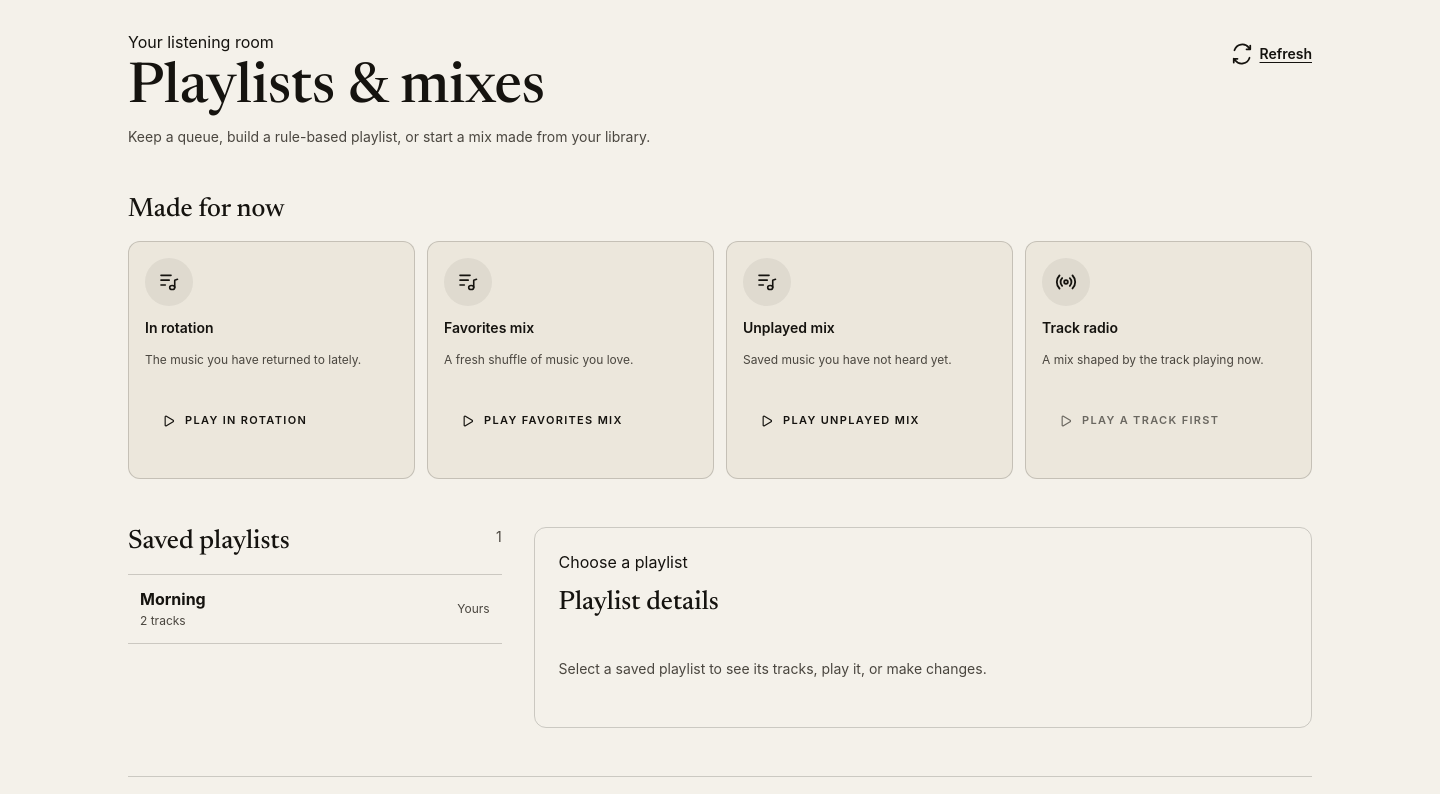
Test case: MusicPlaylists › reorders and removes tracks, then saves the exact optimistic revision
The image size is (1440, 794).
Click the button "Morning 2 tracks Yours". click: x=173, y=599
box: [128,575,502,643]
(page scrolled)
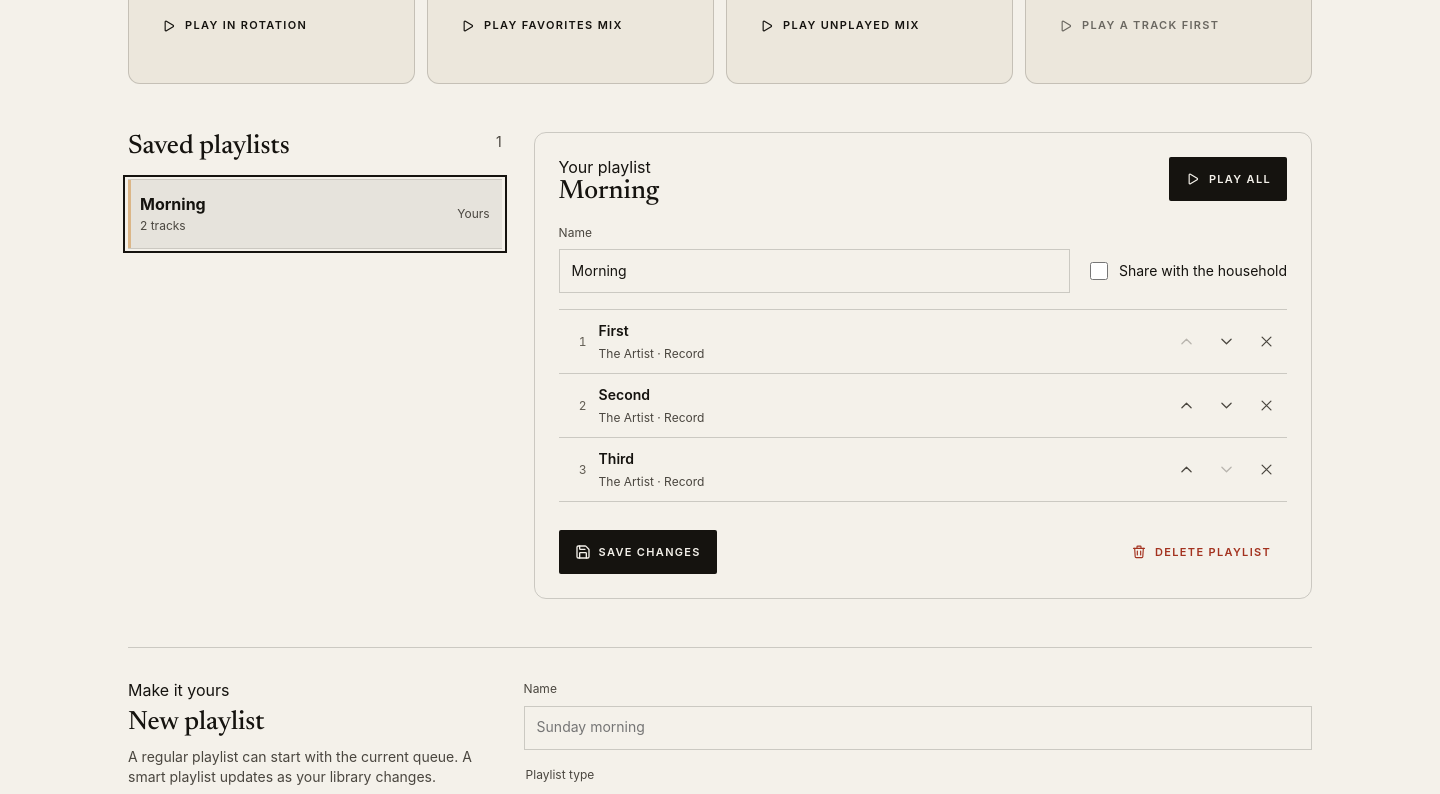
Expected: the text "First" is shown, [599,322,629,339]
Click the button named "Move Second up". click: x=1187, y=406
box: [1167,384,1207,428]
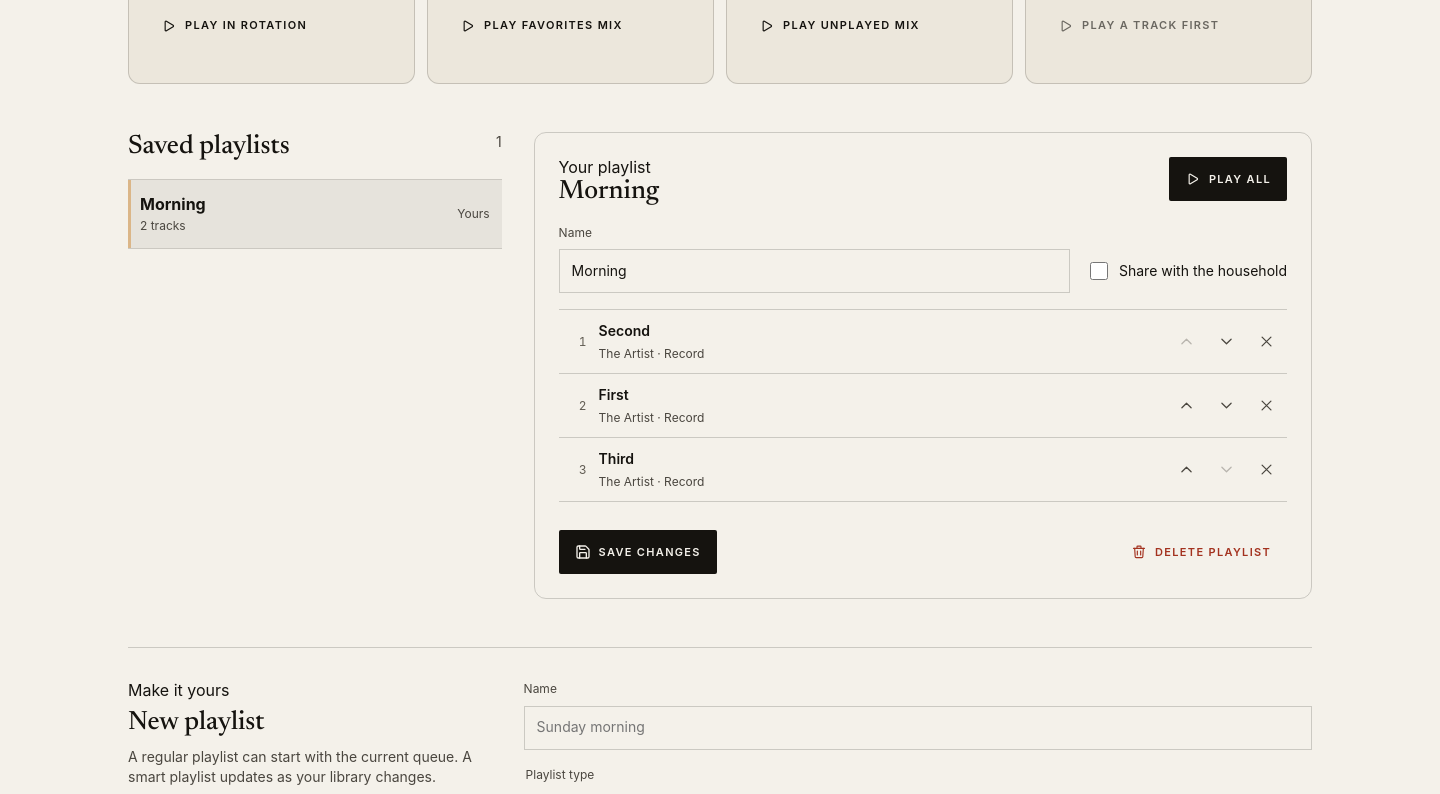
Click the button named "Remove Third". click: x=1267, y=470
box: [1247,448,1287,492]
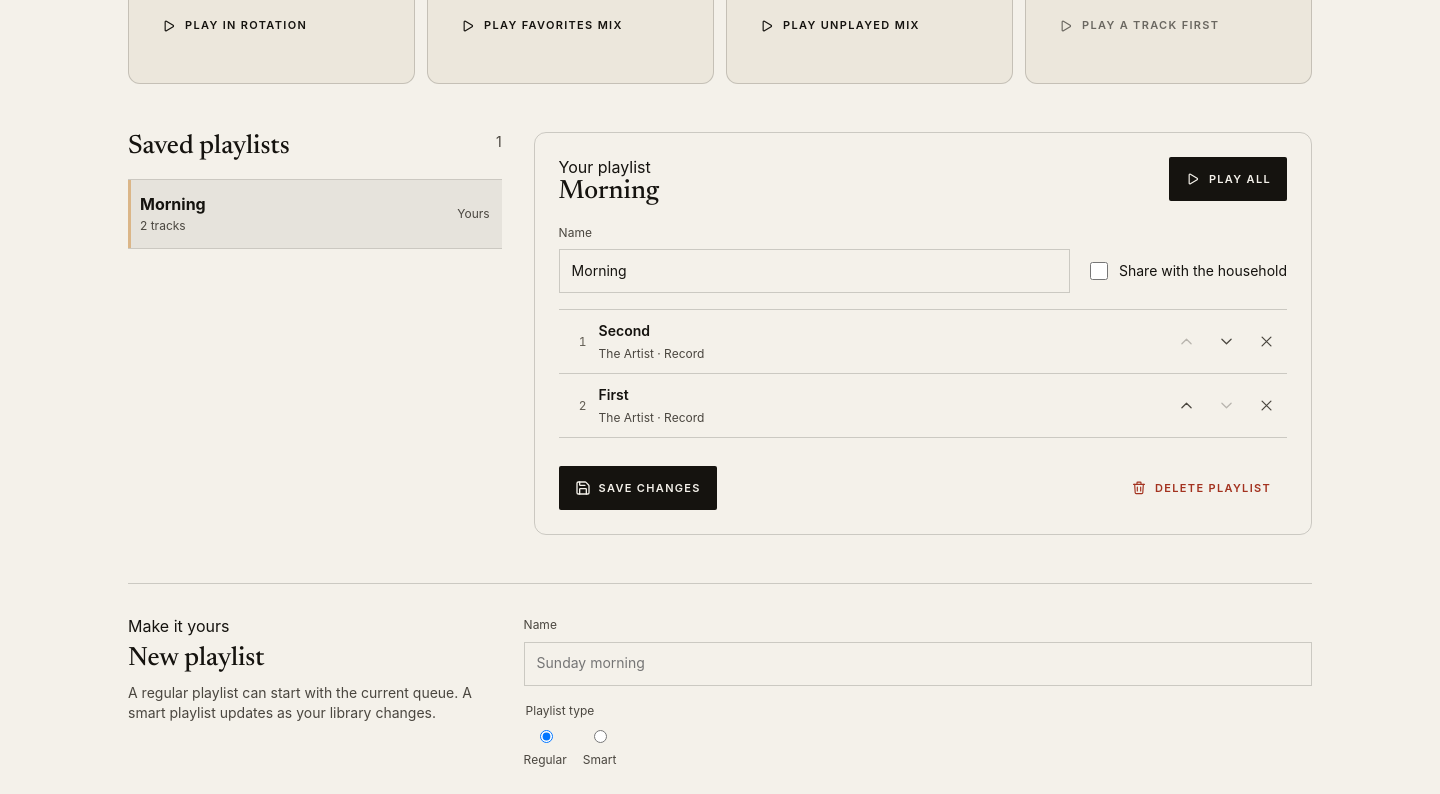
Replace the text in the field labelled "Name" below "Your playlist" with "Renamed". click: x=814, y=271
box: [559,249,1070,293]
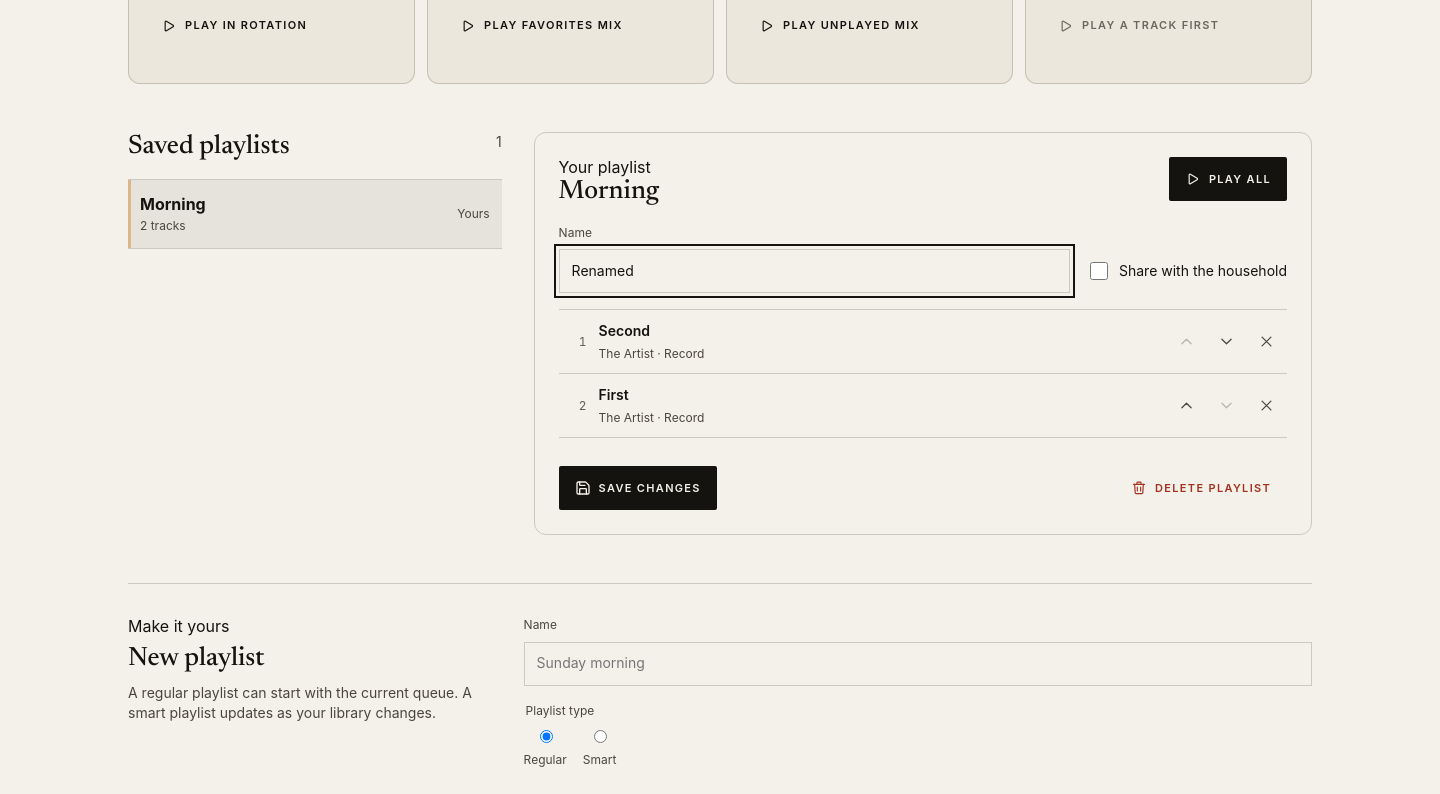
Click the checkbox labelled "Share with the household". click: x=1099, y=271
box: [1090,262,1108,280]
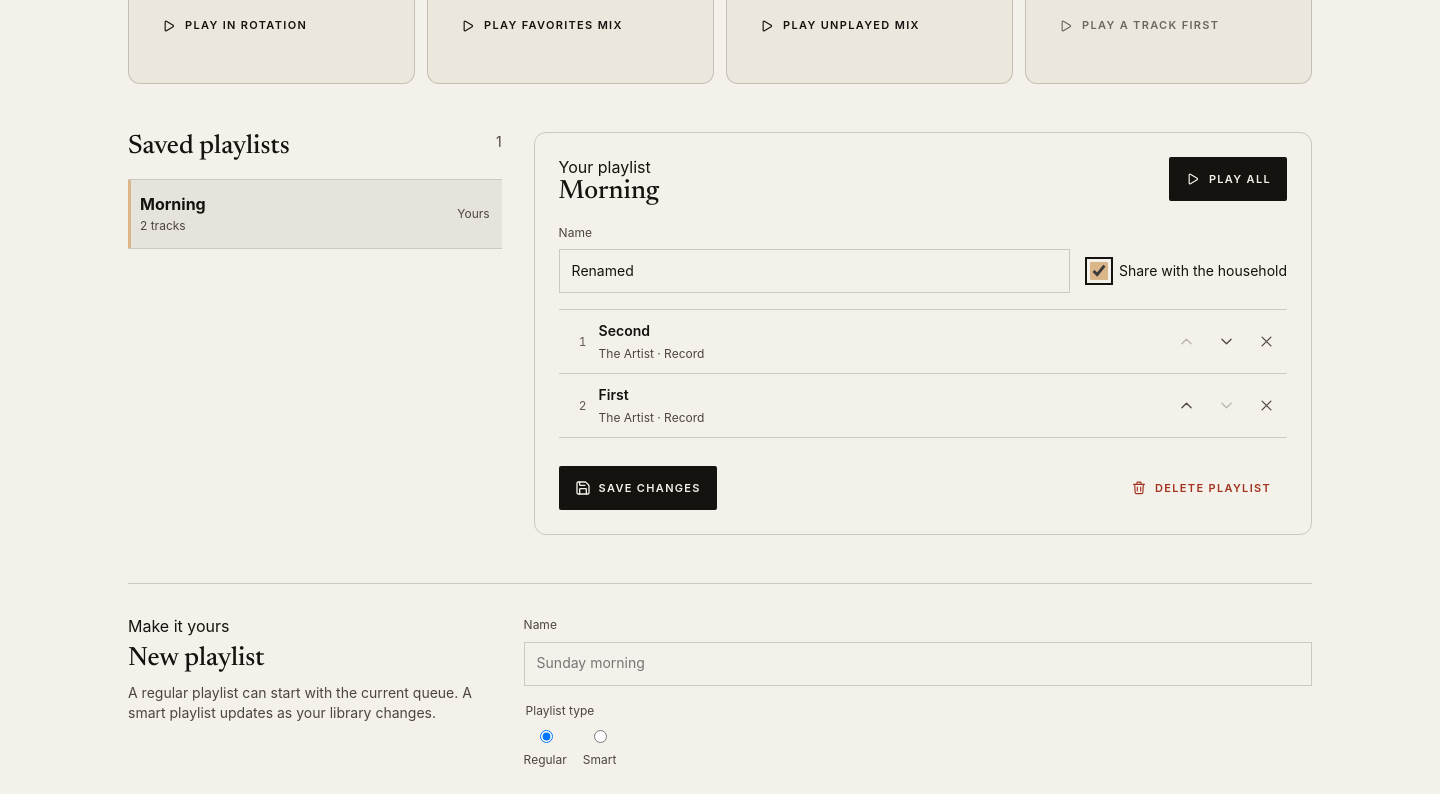
Click the button "Save changes". click: x=638, y=488
box: [559,466,717,510]
(page scrolled)
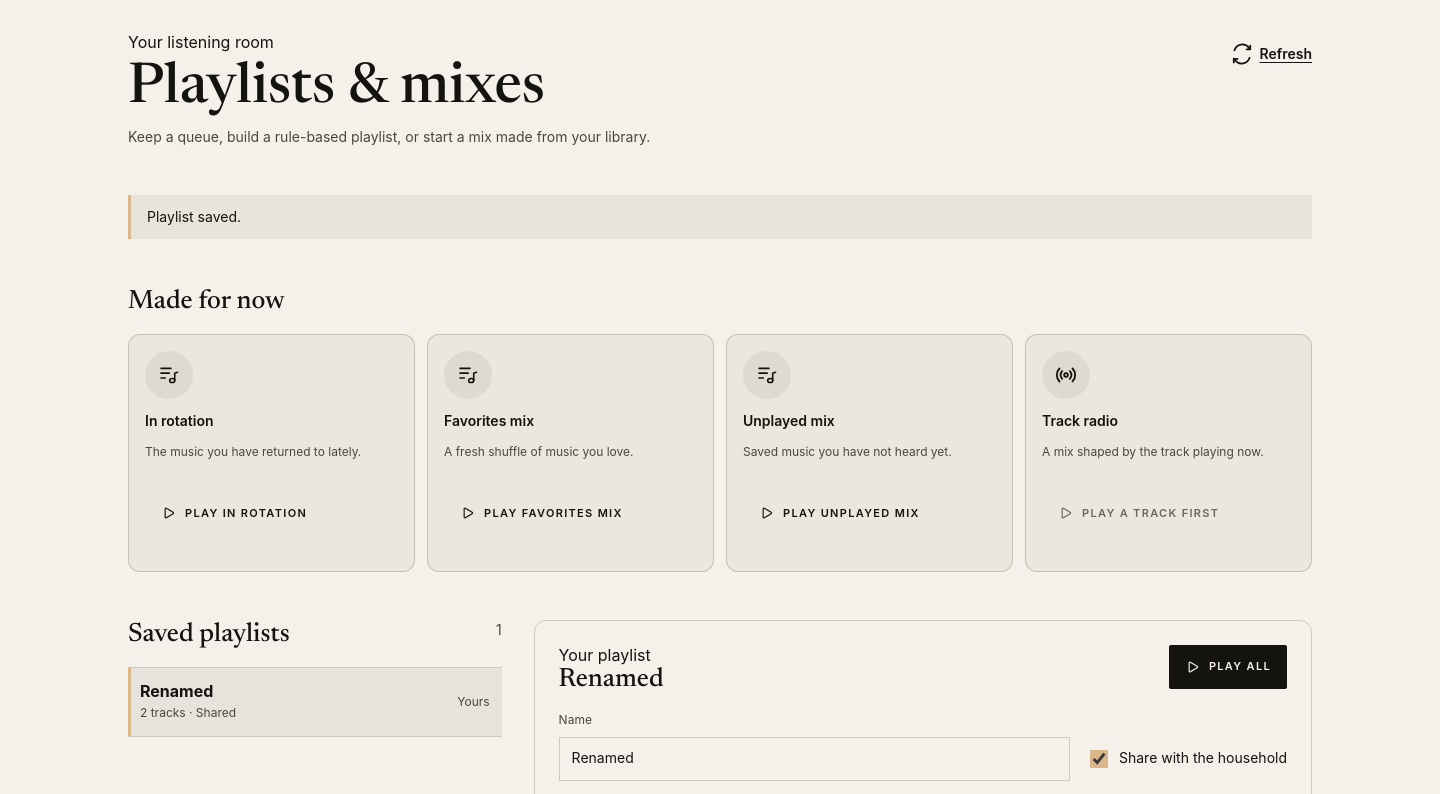
Expected: the text "Playlist saved." is shown, [128,195,1312,239]
